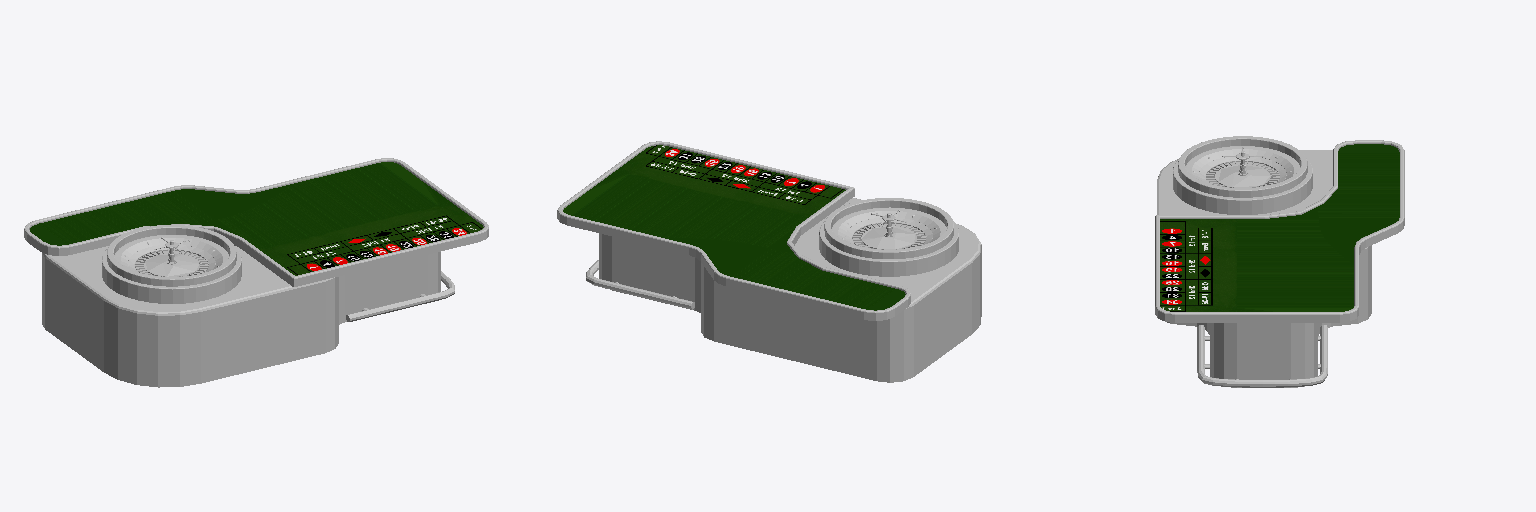
3 renders of one model, left to right at view 1: azimuth 30°, elevation 25°; view 2: azimuth 150°, elevation 25°; view 3: azimuth 270°, elevation 25°, orthographic.
Visible parts, largest first — view 1: Object_3, Object_2, Object_4; view 2: Object_3, Object_2, Object_4; view 3: Object_3, Object_2, Object_4.
Boxes of the visible parts, <box> form: Object_3: <box>24,158,488,387</box>; Object_2: <box>30,162,483,275</box>; Object_4: <box>128,245,215,276</box>; Object_3: <box>557,141,981,382</box>; Object_2: <box>563,145,905,310</box>; Object_4: <box>845,218,932,249</box>; Object_3: <box>1155,136,1404,387</box>; Object_2: <box>1160,144,1399,311</box>; Object_4: <box>1199,157,1286,187</box>.
Size of the model in its own units: 41.65 by 12.06 by 25.24.
3 materials, 1 textured.